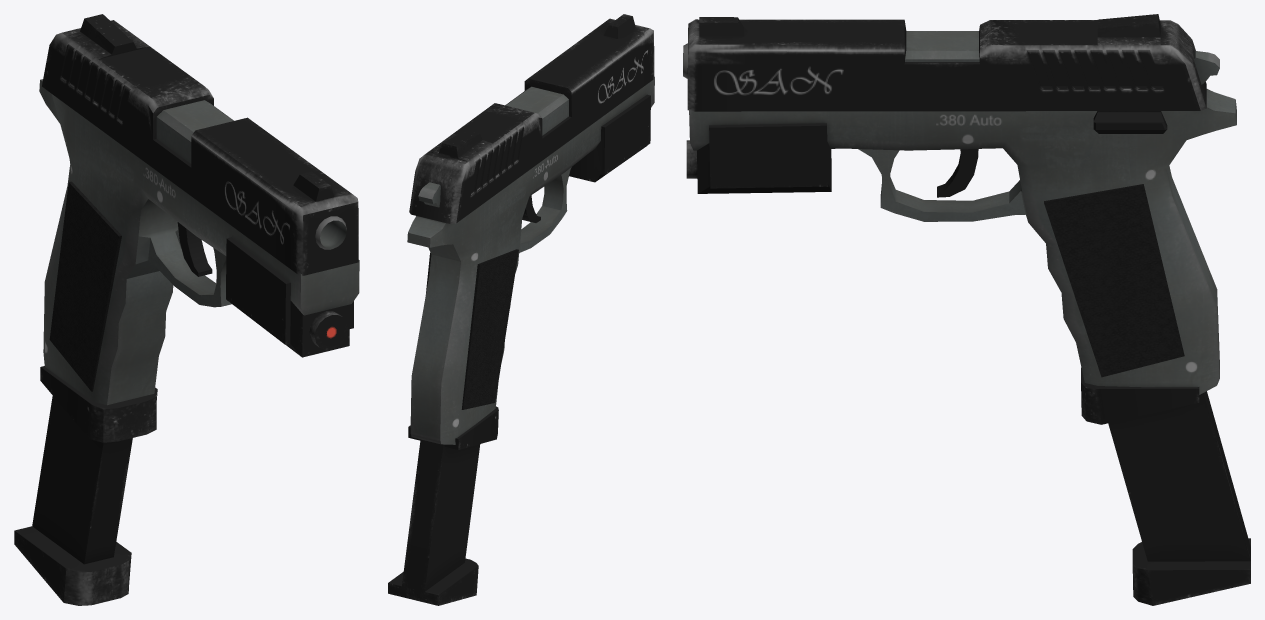
File: Handgun.fbx
3 renders of one model, left to right at view 1: azimuth 30°, elevation 25°; view 2: azimuth 150°, elevation 25°; view 3: azimuth 270°, elevation 25°, orthographic. The views are drawn at different scales.
Visible parts, largest first — view 1: Body, Top, Large Loader, Grip, Laser Sight, Small Loader, Trigger; view 2: Body, Top, Large Loader, Grip, Laser Sight, Small Loader; view 3: Top, Body, Large Loader, Grip, Laser Sight, Small Loader, Locker, Trigger.
Boxes of the visible parts, left/top/right/bottom form: Body: left=39, top=79, right=359, bottom=405; Top: left=42, top=14, right=358, bottom=275; Large Loader: left=14, top=396, right=132, bottom=605; Grip: left=49, top=181, right=121, bottom=391; Laser Sight: left=226, top=237, right=353, bottom=357; Small Loader: left=40, top=366, right=157, bottom=442; Trigger: left=177, top=222, right=212, bottom=276; Body: left=407, top=76, right=654, bottom=444; Top: left=409, top=14, right=654, bottom=223; Large Loader: left=388, top=439, right=480, bottom=605; Grip: left=426, top=249, right=518, bottom=409; Laser Sight: left=569, top=94, right=650, bottom=182; Small Loader: left=408, top=406, right=498, bottom=449; Top: left=687, top=14, right=1206, bottom=111; Body: left=683, top=31, right=1236, bottom=394; Large Loader: left=1108, top=391, right=1250, bottom=605; Grip: left=1044, top=184, right=1184, bottom=377; Laser Sight: left=686, top=123, right=831, bottom=193; Small Loader: left=1081, top=367, right=1199, bottom=424; Locker: left=1093, top=111, right=1167, bottom=133; Trigger: left=937, top=149, right=978, bottom=197.
Bounding box in the file's own units: 138 × 1041 × 937.
